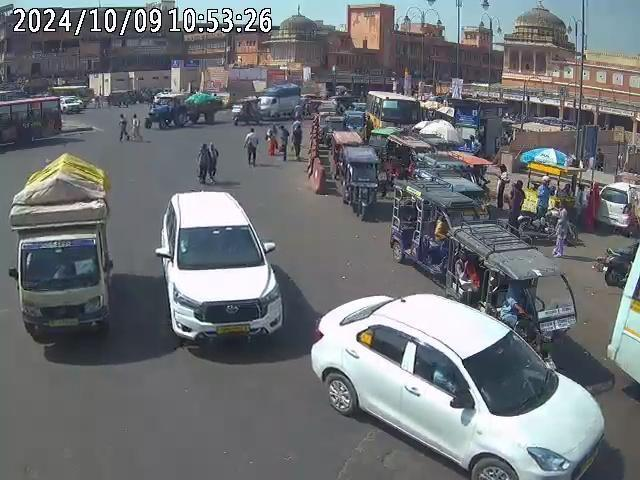auto: (449, 224, 576, 350), (390, 179, 482, 270), (340, 145, 380, 220)
bus: (0, 92, 64, 158), (367, 88, 417, 132)
car: (310, 289, 622, 478), (153, 190, 285, 354), (596, 181, 637, 232)
license_plate: (47, 316, 80, 330), (216, 324, 252, 334)
lorry: (8, 149, 113, 347)
person: (549, 199, 575, 260), (507, 178, 525, 224), (197, 140, 216, 182), (243, 127, 260, 166), (535, 178, 552, 217), (290, 117, 303, 159), (266, 125, 279, 155), (129, 112, 140, 140), (118, 112, 128, 140)
tractor: (146, 89, 223, 130)
